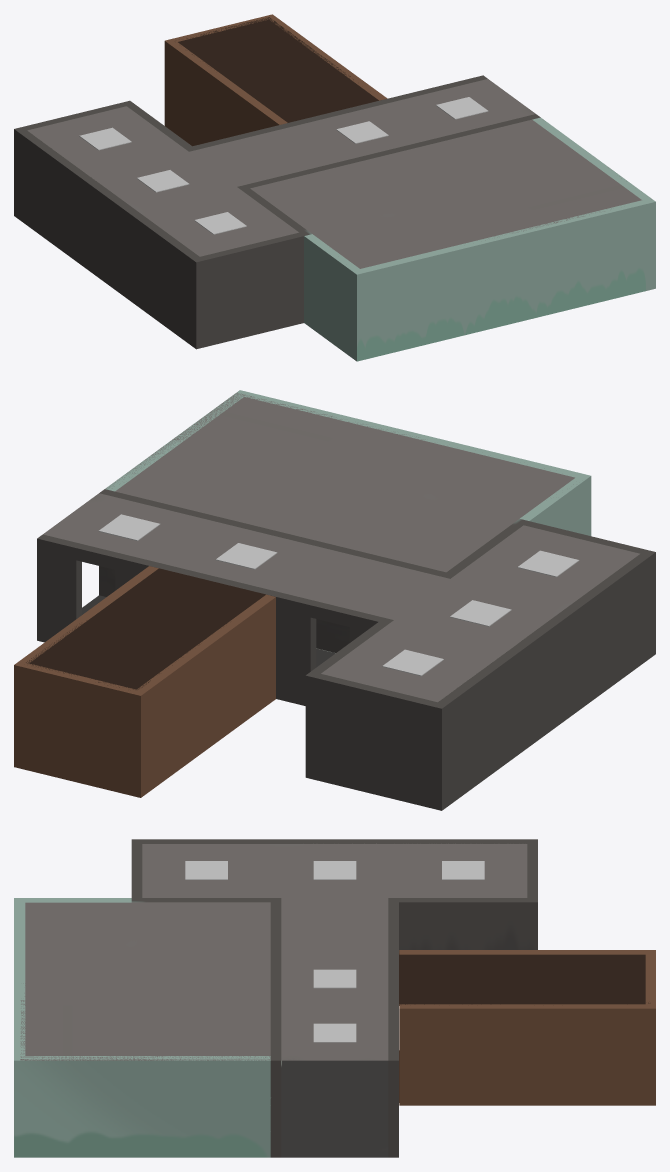
Rendered from map1.glb.
The picture shows the model from 3 angles, top to bottom: view 1: azimuth 30°, elevation 25°; view 2: azimuth 150°, elevation 25°; view 3: azimuth 270°, elevation 25°; orthographic projection. The views are drawn at different scales.
Parts seen in each view (by area): view 1: Plane, Cube.009, Cube, Cube.001, Cube.007, Cube.003, Cube.006, Cube.008, Cube.004; view 2: Plane, Cube, Cube.001, Cube.009, Cube.003, Cube.004, Cube.006, Cube.007, Cube.008; view 3: Plane, Cube.009, Cube.001, Cube, Cube.004, Cube.003, Cube.006, Cube.007, Cube.008.
Boxes of the visible parts, x1,y1,x2,y2 form: Plane: [27, 17, 651, 268]; Cube.009: [304, 117, 655, 361]; Cube: [14, 75, 540, 349]; Cube.001: [164, 14, 387, 146]; Cube.007: [79, 127, 131, 150]; Cube.003: [336, 121, 388, 143]; Cube.006: [137, 170, 189, 192]; Cube.008: [194, 212, 246, 234]; Cube.004: [436, 97, 488, 119]; Plane: [26, 392, 639, 702]; Cube: [37, 489, 655, 810]; Cube.001: [14, 566, 275, 797]; Cube.009: [105, 390, 591, 535]; Cube.003: [215, 543, 277, 569]; Cube.004: [98, 514, 160, 540]; Cube.006: [450, 600, 511, 626]; Cube.007: [382, 649, 443, 676]; Cube.008: [517, 550, 579, 577]; Plane: [20, 843, 650, 1157]; Cube.009: [14, 898, 270, 1157]; Cube.001: [399, 950, 655, 1105]; Cube: [131, 839, 537, 1157]; Cube.004: [313, 1023, 356, 1042]; Cube.003: [313, 969, 356, 988]; Cube.006: [313, 861, 356, 879]; Cube.007: [442, 861, 484, 879]; Cube.008: [185, 861, 227, 879].
Bounding box in the file's own units: 24.49 × 5.04 × 30.01.
Materials: 9 (9 with a texture image).
